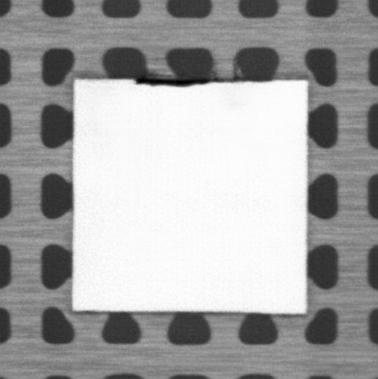DIE_BROKEN: (133, 75, 213, 88)
